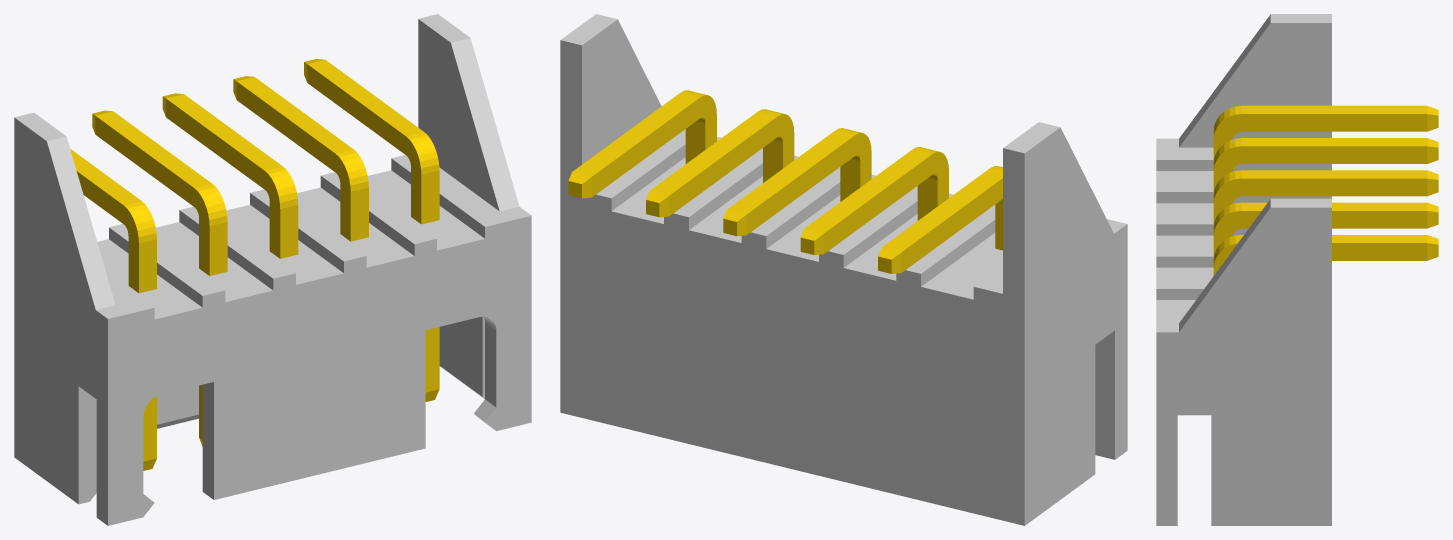
Rendered from DS1069-5 CWF-5R.obj.
3 renders of one model, left to right at view 1: azimuth 30°, elevation 25°; view 2: azimuth 150°, elevation 25°; view 3: azimuth 270°, elevation 25°, orthographic. The views are drawn at different scales.
Visible parts, largest first — view 1: DS1069-5_CWF-5R; view 2: DS1069-5_CWF-5R; view 3: DS1069-5_CWF-5R.
Part boxes in pixels (x1,y1,x2,y2): DS1069-5_CWF-5R: (14,14,531,525); DS1069-5_CWF-5R: (560,14,1127,525); DS1069-5_CWF-5R: (1156,14,1438,525).
Size of the model in its own units: 0.0261 by 0.02 by 0.0161.
